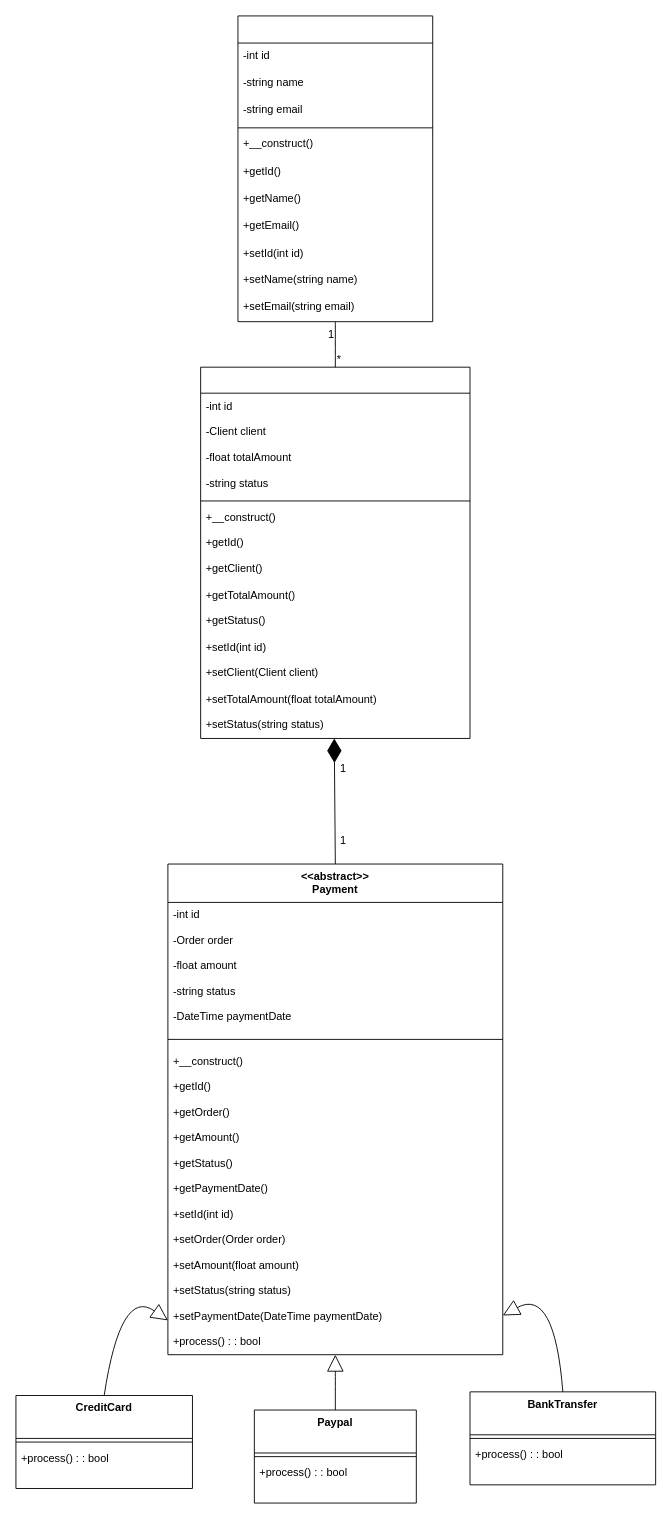
Image size: 672x1522. Some labels were removed from this diagram. The shapes that lost their labels are listed below. From the top down, each one's box as (x1, y1, x2, y2) in pixels, then its label:
(237, 15, 433, 322): Client
(200, 366, 470, 738): Order
